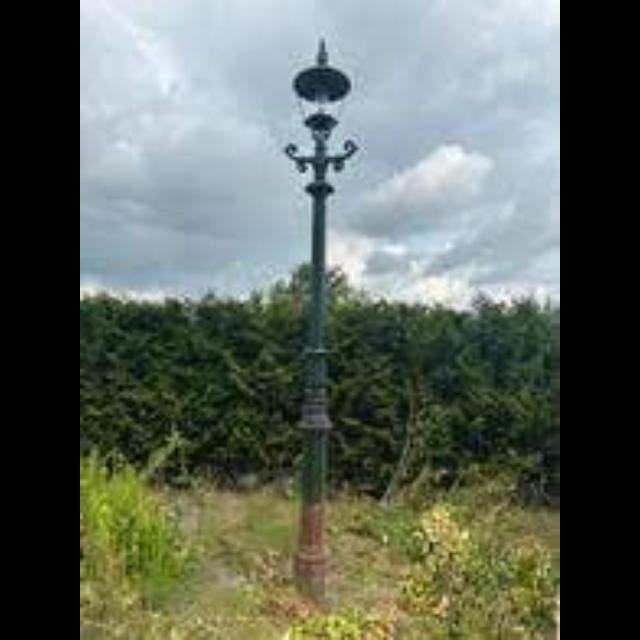Street-Lamp: (270, 31, 360, 609)
